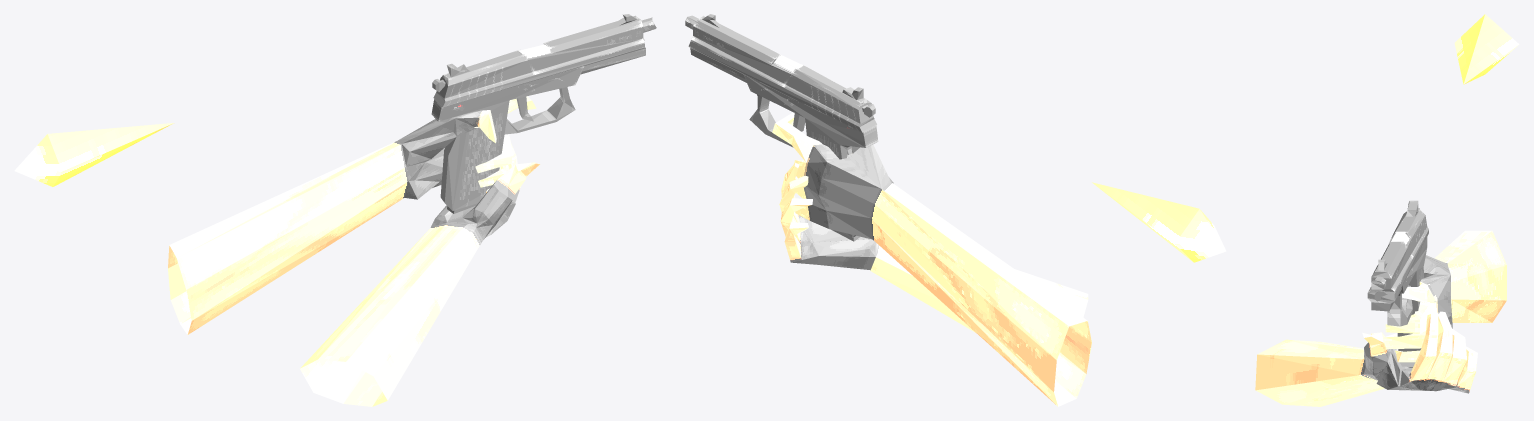
3 renders of one model, left to right at view 1: azimuth 30°, elevation 25°; view 2: azimuth 150°, elevation 25°; view 3: azimuth 270°, elevation 25°, orthographic. The views are drawn at different scales.
Visible parts, largest first — view 1: V_MK23; view 2: V_MK23; view 3: V_MK23.
Part boxes in pixels (x1,y1,x2,y2): V_MK23: [14, 14, 656, 406]; V_MK23: [685, 14, 1226, 406]; V_MK23: [1255, 14, 1519, 406].
Bounding box in the file's own units: 36.7 × 17.44 × 13.6.
